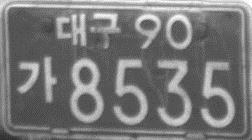0: (165, 12, 193, 51)
3: (153, 58, 192, 127)
5: (199, 59, 236, 128), (113, 57, 149, 126)
8: (68, 56, 105, 124)
9: (132, 12, 162, 50)
가: (16, 54, 59, 106)
대구_O: (53, 9, 122, 52)
